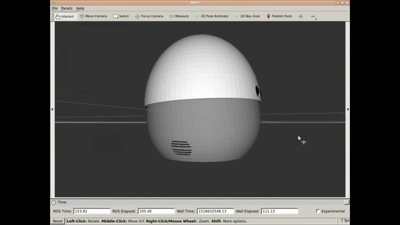mira_robot: (144, 34, 262, 163)
